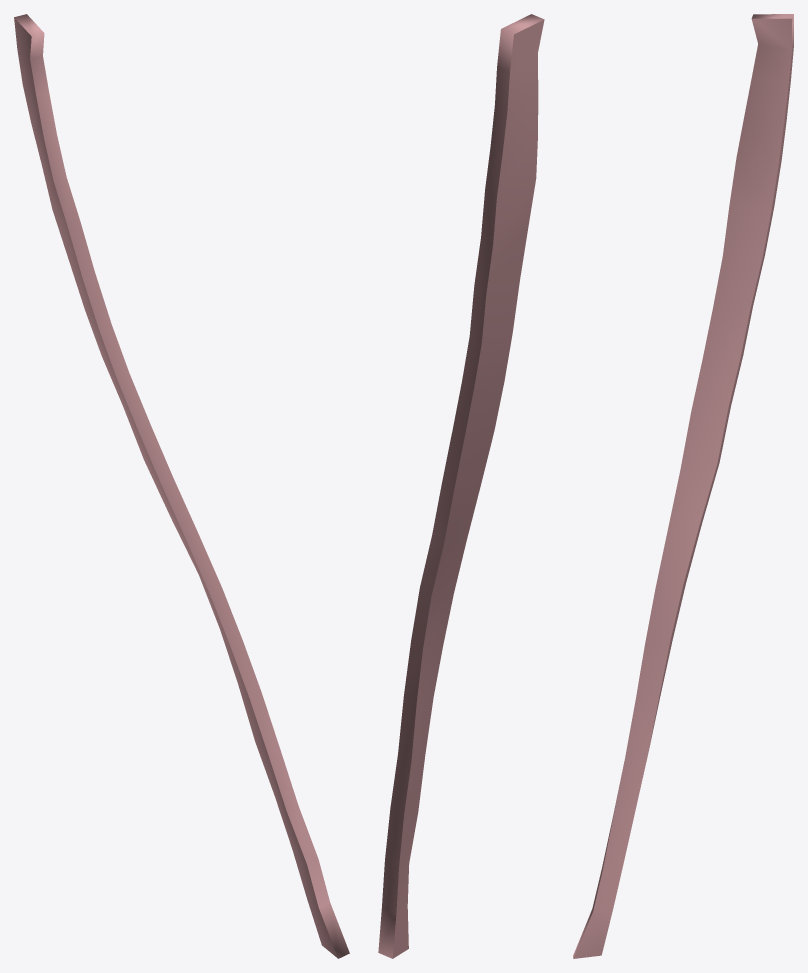
The picture shows the model from 3 angles, left to right: view 1: azimuth 30°, elevation 25°; view 2: azimuth 150°, elevation 25°; view 3: azimuth 270°, elevation 25°; orthographic projection. The views are drawn at different scales.
Parts seen in each view (by area): view 1: ZA_7224334ee52b011d; view 2: ZA_7224334ee52b011d; view 3: ZA_7224334ee52b011d.
Part boxes in pixels (bbox=[...]): ZA_7224334ee52b011d: bbox=[14, 14, 349, 958]; ZA_7224334ee52b011d: bbox=[378, 14, 544, 958]; ZA_7224334ee52b011d: bbox=[573, 14, 793, 958].
Bounding box in the file's own units: 0.0553 × 0.2156 × 0.0509.
